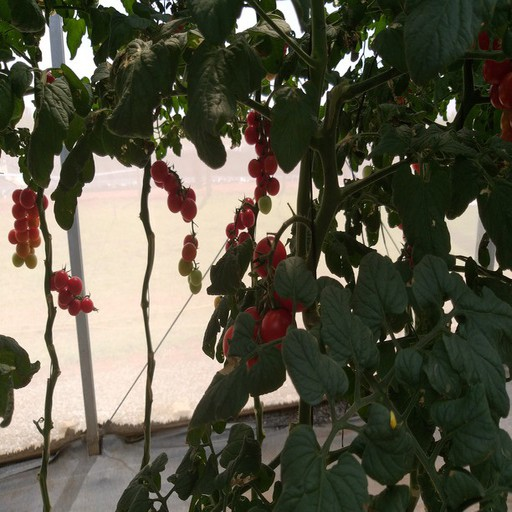red tomato bunch: (223, 230, 311, 373), (479, 28, 512, 140), (245, 110, 280, 215), (9, 187, 52, 268), (151, 161, 196, 224), (45, 268, 95, 315), (224, 197, 256, 254)
